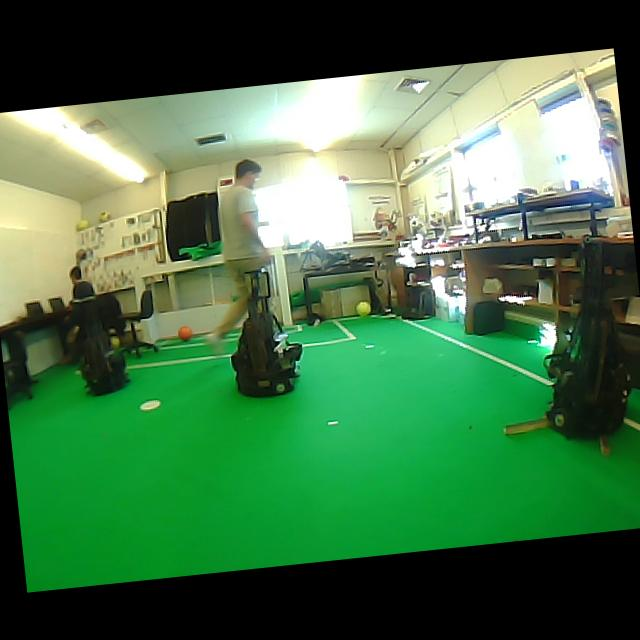ball: (355, 300, 370, 316), (177, 325, 192, 340), (75, 219, 90, 230), (98, 211, 111, 221), (110, 336, 120, 347)
robot: (547, 241, 630, 437), (230, 268, 301, 395), (81, 333, 129, 394)
